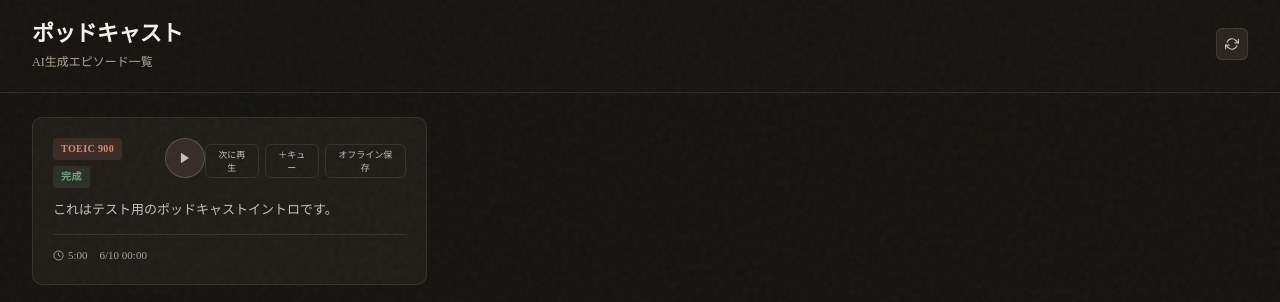
it: PodcastPage — offline download (issue #167) › 保存が { ok: false } を返す と、toast「オフライン保存に失敗しました」を出し、保存済みにしない (verifies: CI-P4-30)
The image size is (1280, 302).
Click the button "オフライン保存".
click(365, 161)  # box [325, 144, 406, 178]
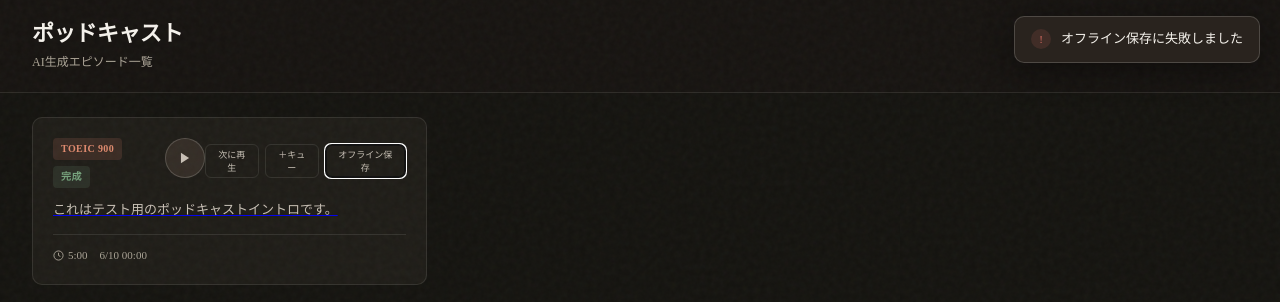
Expected: the message shows "オフライン保存に失敗しました", [1061, 31, 1243, 46]
